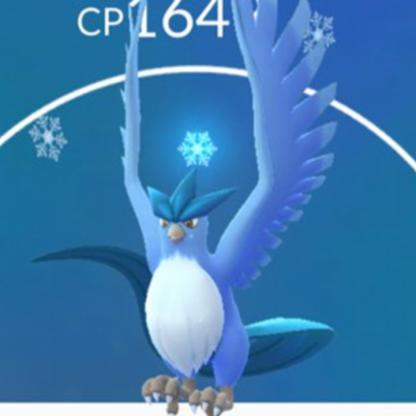Articuno: (7, 1, 416, 416)
